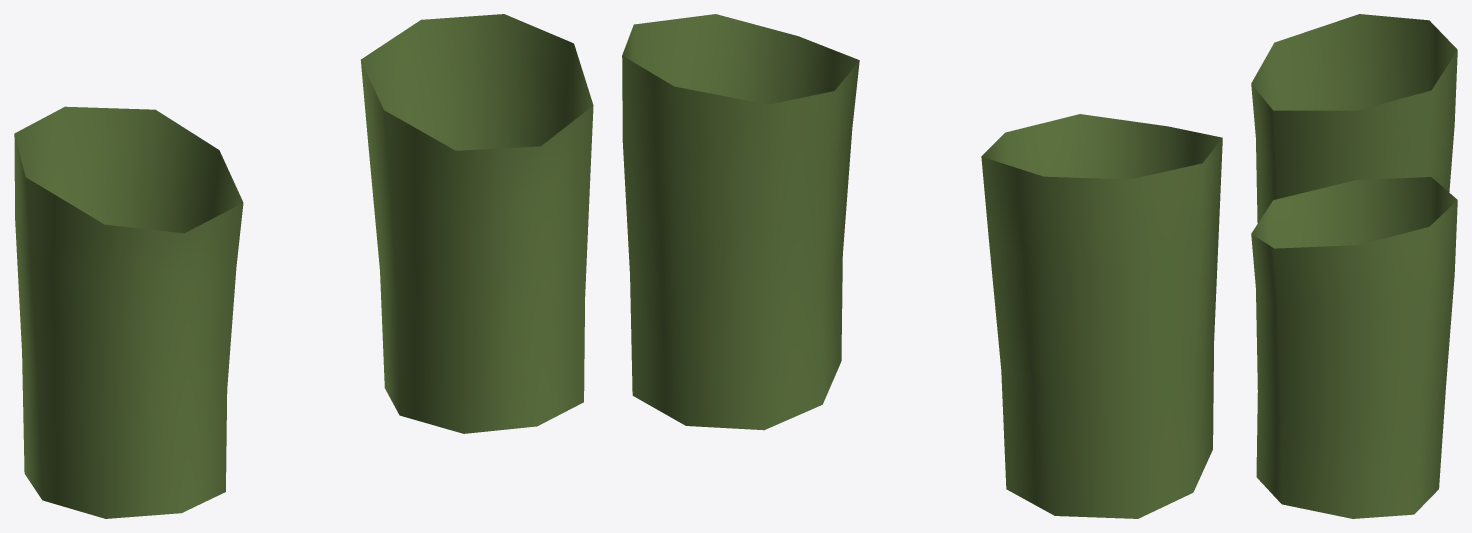
Rendered from Body_Green_LegA_2.fbx.
3 views of the same model, side by side, from view 1: azimuth 30°, elevation 25°; view 2: azimuth 150°, elevation 25°; view 3: azimuth 270°, elevation 25° (orthographic). The views are drawn at different scales.
Visible parts, largest first — view 1: Body_Green_LegA_2; view 2: Body_Green_LegA_2; view 3: Body_Green_LegA_2.
Part boxes in pixels (x1=…): Body_Green_LegA_2: x1=14, y1=14, x2=593, y2=518; Body_Green_LegA_2: x1=622, y1=14, x2=1222, y2=518; Body_Green_LegA_2: x1=1251, y1=14, x2=1457, y2=518.
Bounding box in the file's own units: 31.33 × 18.38 × 11.84.
